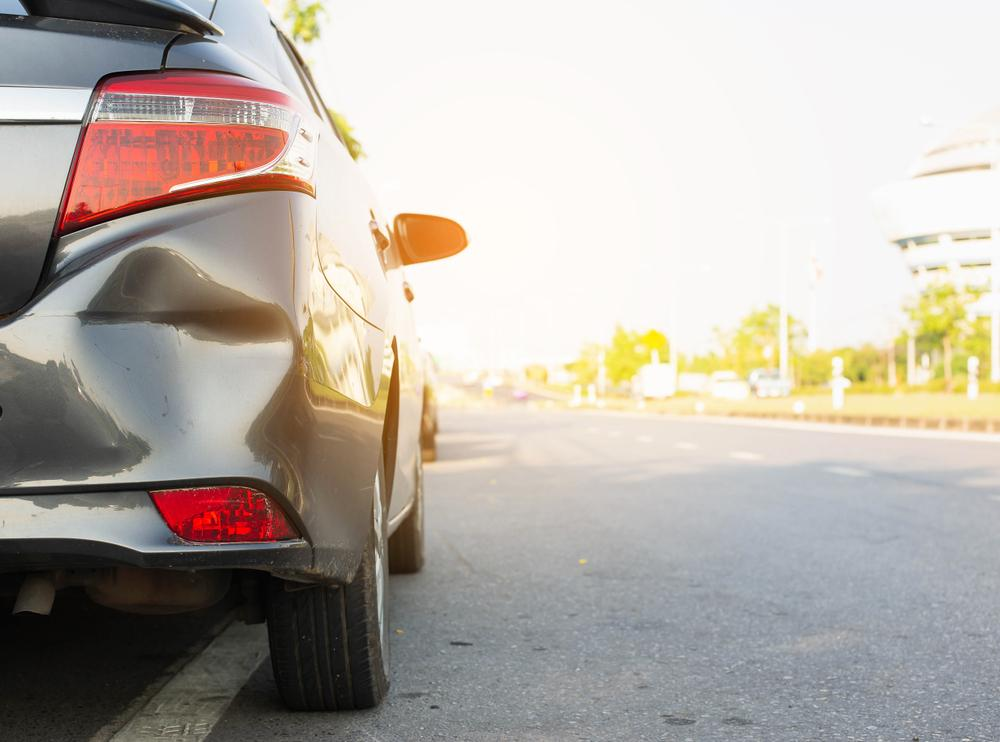dent: (73, 248, 298, 453)
